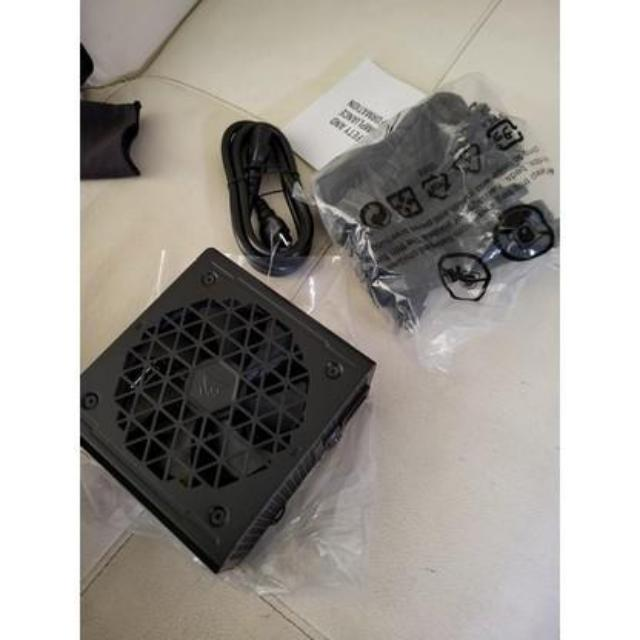PSU: (80, 245, 377, 572)
